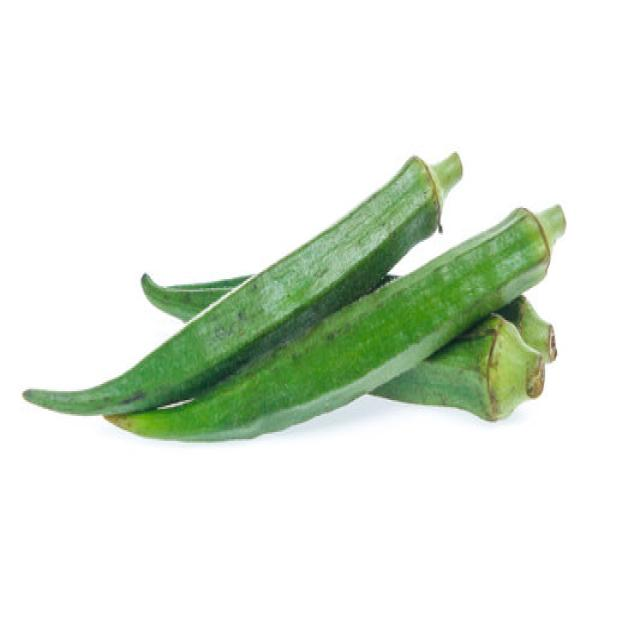Okra: (102, 199, 566, 443), (368, 311, 545, 421), (495, 293, 557, 363)
